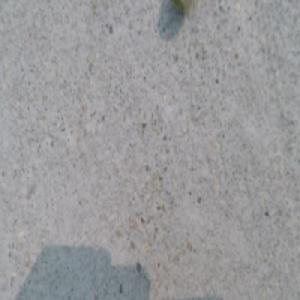BoltNutSet: (171, 1, 194, 11)
